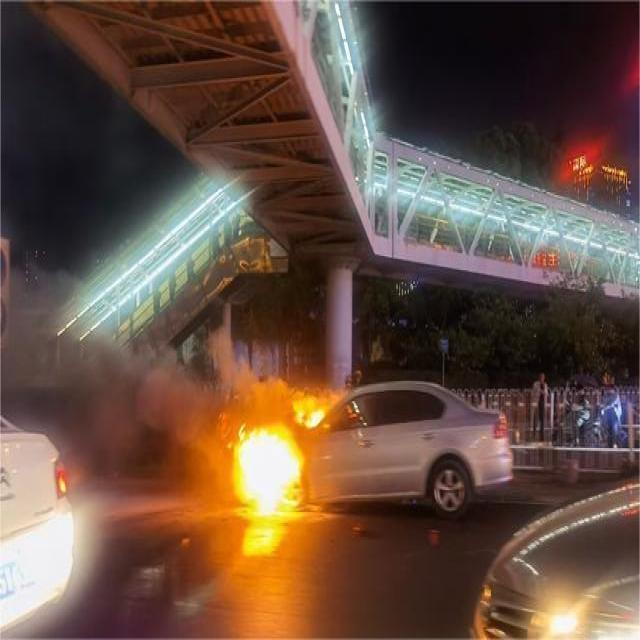fire: (228, 425, 307, 513), (291, 391, 326, 428)
